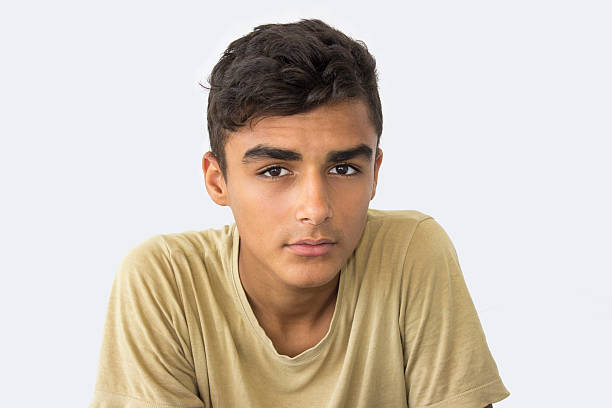face: (227, 115, 376, 287)
